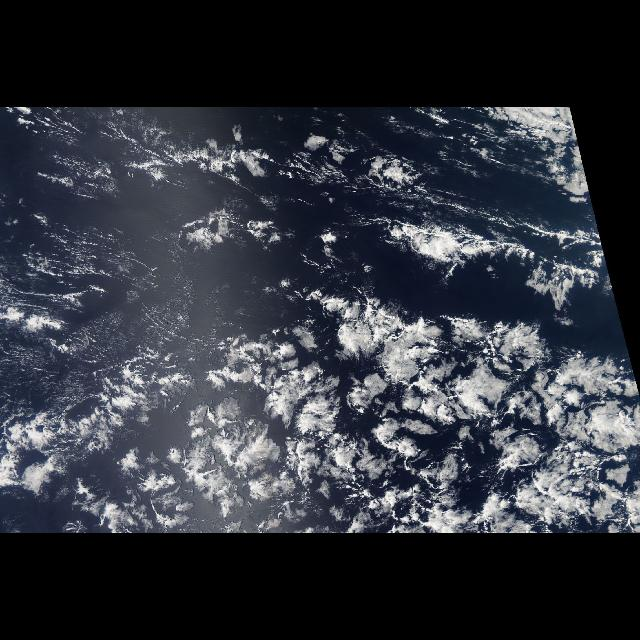Flower: (1, 287, 640, 533)
Sugar: (0, 161, 192, 417)
